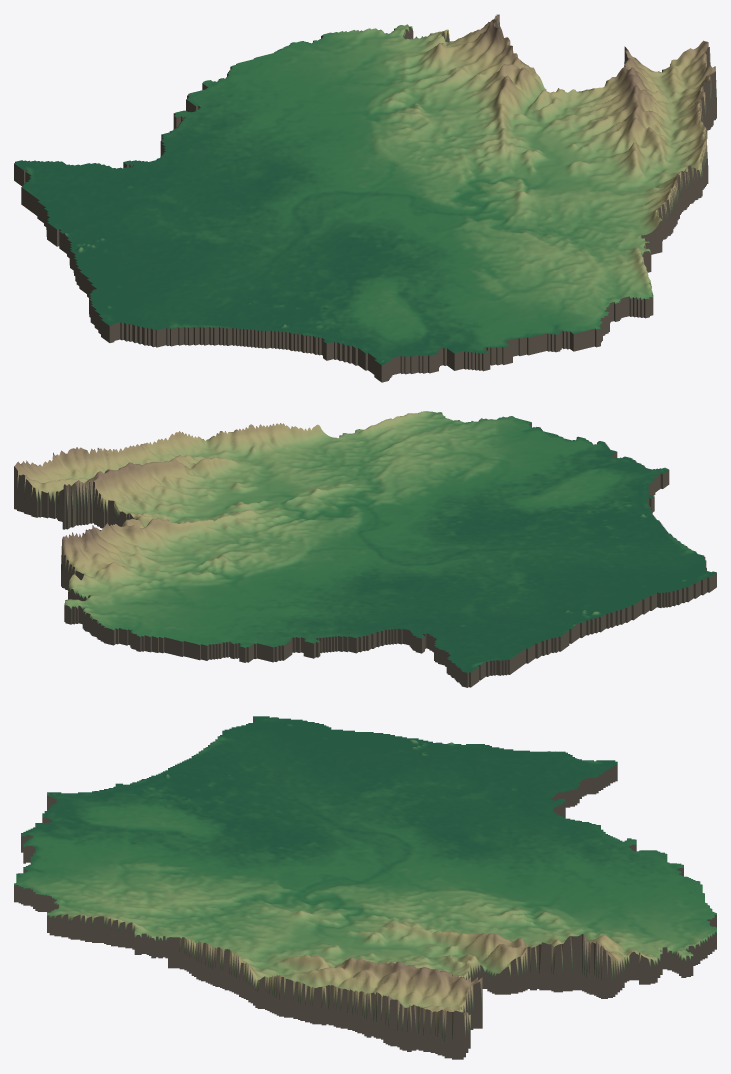
Rendered from terrain.glb.
3 renders of one model, top to bottom at view 1: azimuth 30°, elevation 25°; view 2: azimuth 150°, elevation 25°; view 3: azimuth 270°, elevation 25°, orthographic. The views are drawn at different scales.
Parts seen in each view (by area): view 1: Tainan_Real_Terrain; view 2: Tainan_Real_Terrain; view 3: Tainan_Real_Terrain.
Boxes of the visible parts, left/top/right/bottom form: Tainan_Real_Terrain: left=14, top=14, right=716, bottom=382; Tainan_Real_Terrain: left=14, top=411, right=716, bottom=687; Tainan_Real_Terrain: left=14, top=716, right=716, bottom=1059.
Size of the model in its own units: 63.99 by 5.13 by 58.19.
